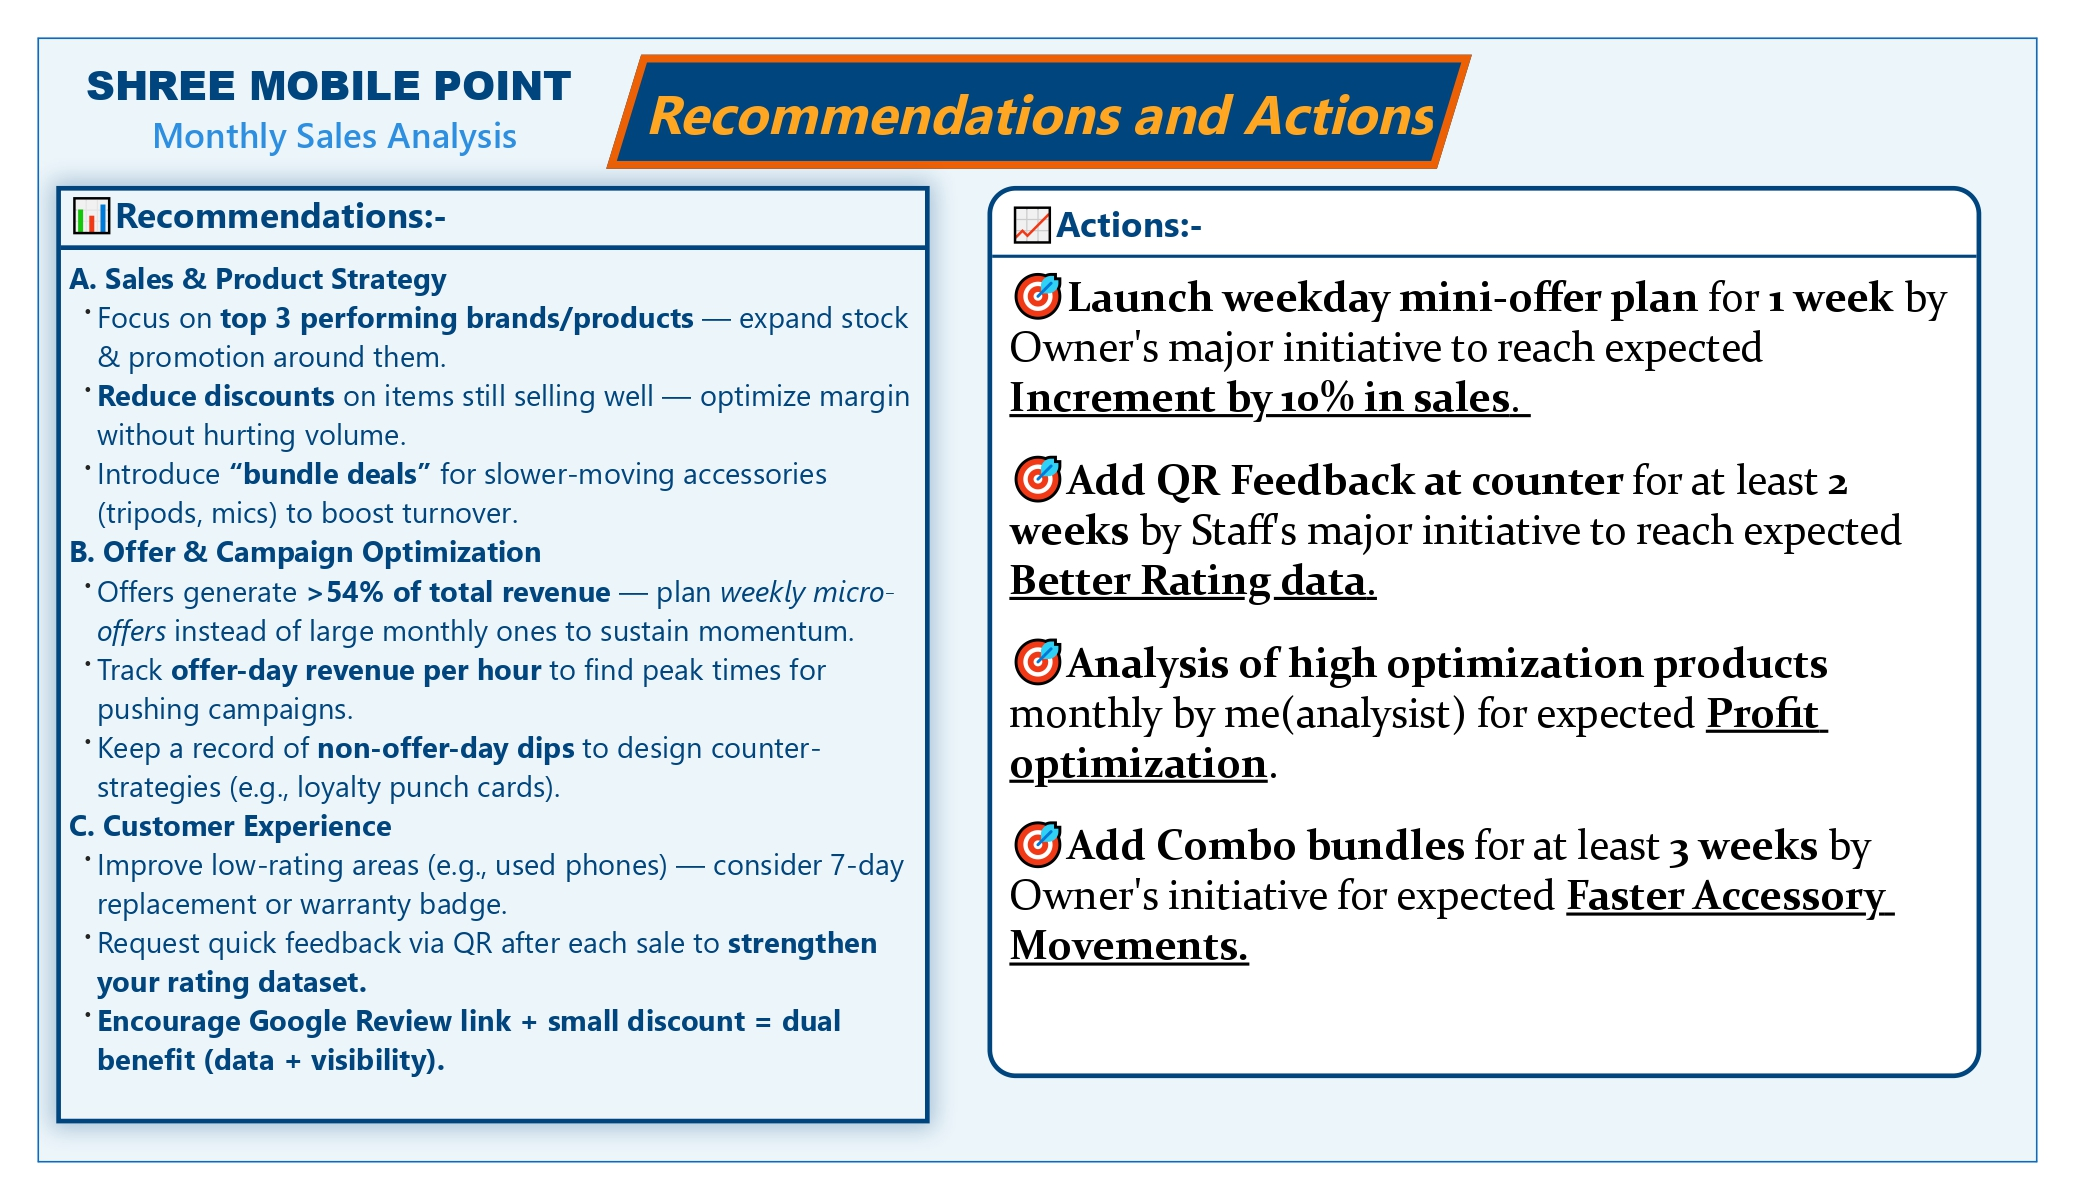

The page's visual inventory and layout, read from the dashboard file:
{"tool":"powerbi","page":{"name":"Recommendations and Actions ","canvas":[1280,720],"ordinal":4},"visuals":[{"type":"shape","box":[0,0,1280,720.1],"z":0},{"type":"textbox","title":"SHREE MOBILE POINT","box":[26.4,12.4,325.1,35.8],"z":1000},{"type":"textbox","title":"Monthly Sales Analysis","box":[52.9,46.7,273.7,37.3],"z":2000},{"type":"shape","box":[363.9,10.9,553.7,73.1],"z":3000},{"type":"textbox","title":"📊Recommendations:-","box":[12.4,94.9,558.3,600.3],"z":4000},{"type":"textbox","title":"📈Actions:-","box":[608.1,94.9,636.1,570.8],"z":5000}]}

Visuals, with their boxes on the page's 1280x720 design canvas (x1, y1, x2, y2). These are canvas units, not pixel positions in the 2075x1200 screenshot, which may show the page scaled, cropped or inside an application window:
shape: (x1=0, y1=0, x2=1280, y2=720)
"SHREE MOBILE POINT" textbox: (x1=26, y1=12, x2=352, y2=48)
"Monthly Sales Analysis" textbox: (x1=53, y1=47, x2=327, y2=84)
shape: (x1=364, y1=11, x2=918, y2=84)
"📊Recommendations:-" textbox: (x1=12, y1=95, x2=571, y2=695)
"📈Actions:-" textbox: (x1=608, y1=95, x2=1244, y2=666)
